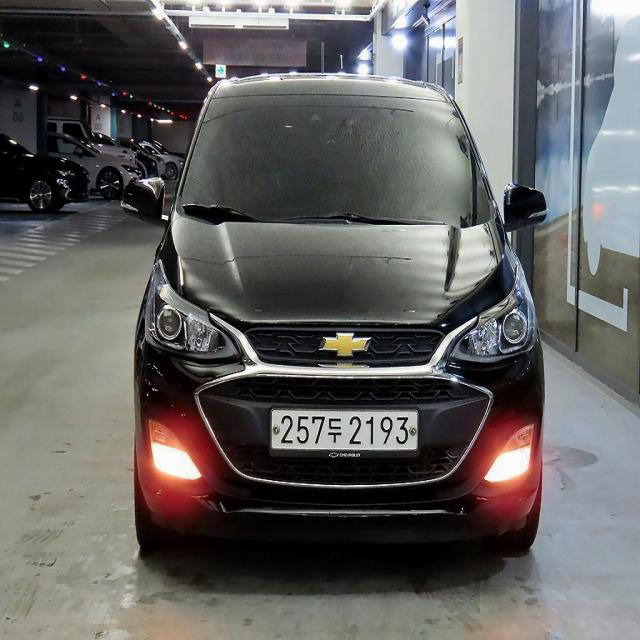car: (108, 67, 561, 572)
illegal_plate: (268, 404, 418, 467)
